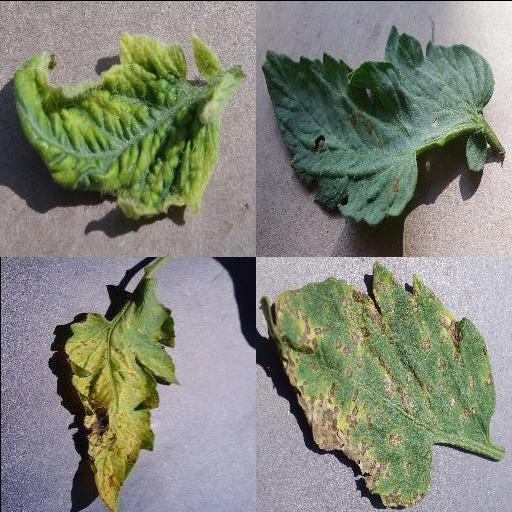Early Blight: (260, 30, 496, 234)
Septoria: (260, 260, 494, 507), (64, 278, 178, 512)
Yellow Leaf Curl Virus: (15, 30, 225, 216)
